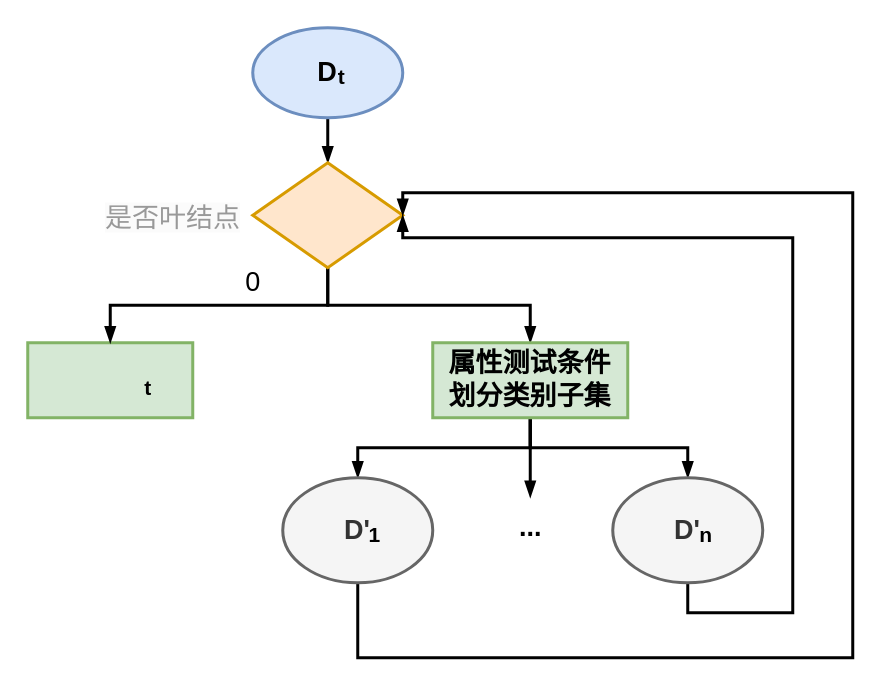
Some shapes in this 891 by 696 pixel diagram are drawn without their labels. The shapes that lost their labels are listed below. From the top down, each one's box as (x1, y1, x2, y2) in pixels, then its label:
(250, 160, 404, 268): 出边数量
(26, 340, 194, 418): 标记y
